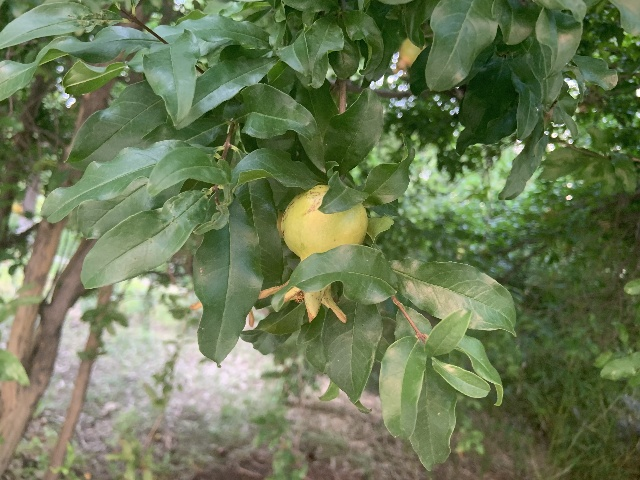mid-growth: (258, 184, 367, 323), (393, 38, 425, 73)
